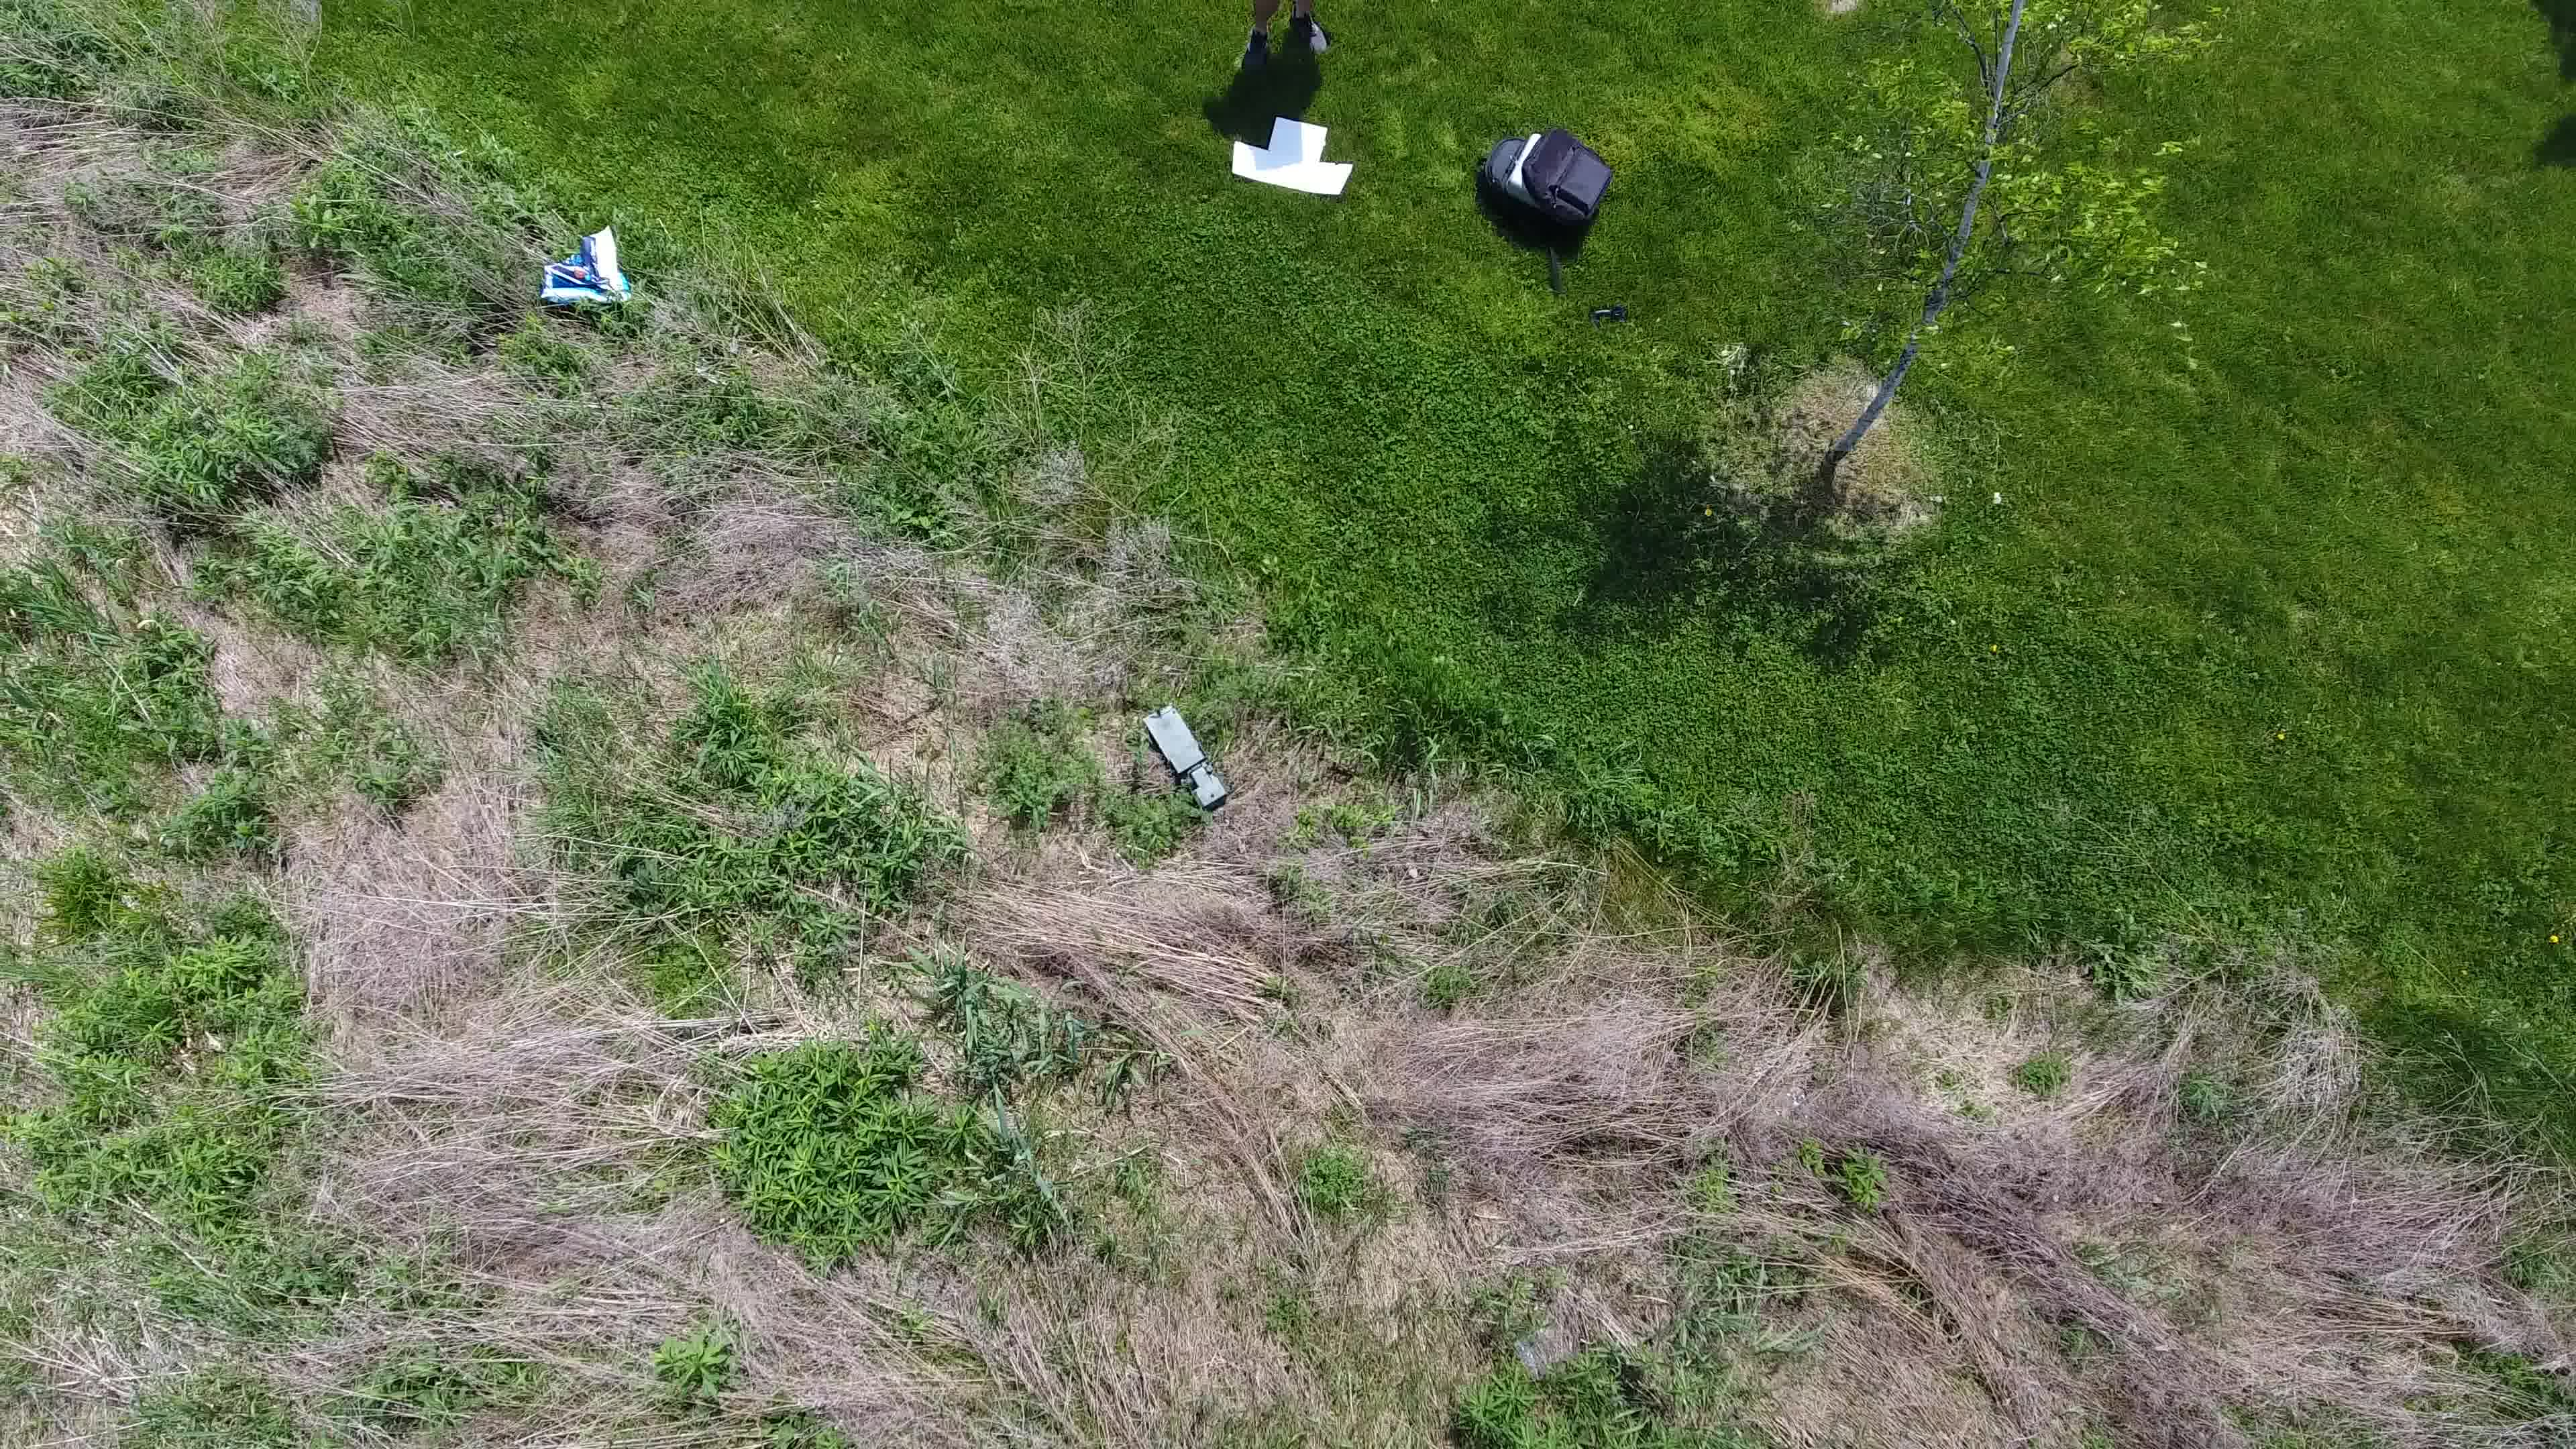transporter9: (1139, 701, 1230, 814)
